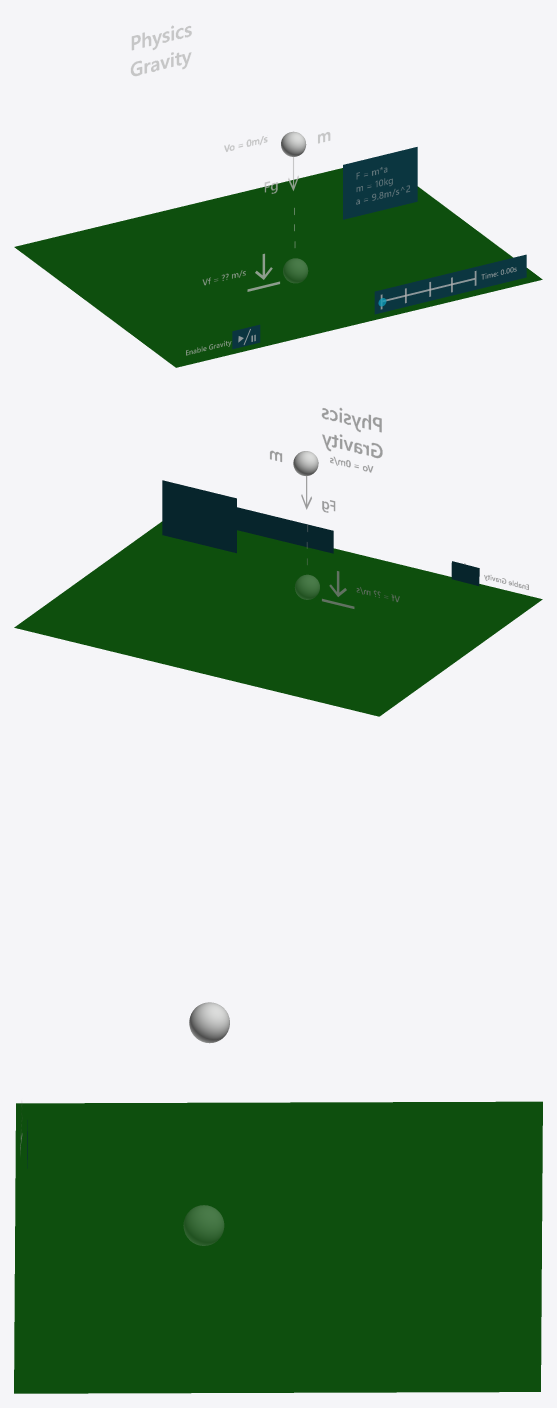
The model's file is Scene View_v1_Scene0.gltf.
3 renders of one model, top to bottom at view 1: azimuth 30°, elevation 25°; view 2: azimuth 150°, elevation 25°; view 3: azimuth 270°, elevation 25°, orthographic. The views are drawn at different scales.
Visible parts, largest first — view 1: 004_Plane_2740(Clone), 004_Plane_2867, 004_Plane_2754, Maq_TextExportedImage(Clone), 004_Plane_2870, 002_Sphere_2741, 002_Sphere_2825(Clone); view 2: 004_Plane_2740(Clone), 004_Plane_2867, 004_Plane_2754, Maq_TextExportedImage(Clone), 004_Plane_2870, 002_Sphere_2741, 002_Sphere_2825(Clone); view 3: 004_Plane_2740(Clone), 002_Sphere_2741, 002_Sphere_2825(Clone).
Part boxes in pixels (box(x1,y1,x2,y2)): 004_Plane_2740(Clone): box(14, 168, 542, 367); 004_Plane_2867: box(343, 147, 417, 219); 004_Plane_2754: box(374, 254, 526, 314); Maq_TextExportedImage(Clone): box(131, 25, 191, 75); 004_Plane_2870: box(232, 324, 260, 349); 002_Sphere_2741: box(281, 131, 306, 156); 002_Sphere_2825(Clone): box(283, 258, 307, 282); 004_Plane_2740(Clone): box(14, 521, 542, 716); 004_Plane_2867: box(162, 480, 236, 553); 004_Plane_2754: box(237, 507, 333, 553); Maq_TextExportedImage(Clone): box(322, 408, 382, 457); 004_Plane_2870: box(451, 561, 479, 585); 002_Sphere_2741: box(293, 451, 318, 475); 002_Sphere_2825(Clone): box(295, 575, 319, 599); 004_Plane_2740(Clone): box(14, 1101, 542, 1393); 002_Sphere_2741: box(189, 1002, 229, 1043); 002_Sphere_2825(Clone): box(183, 1205, 223, 1245).
Size of the model in its own units: 0.8609 by 0.5895 by 0.6641.
